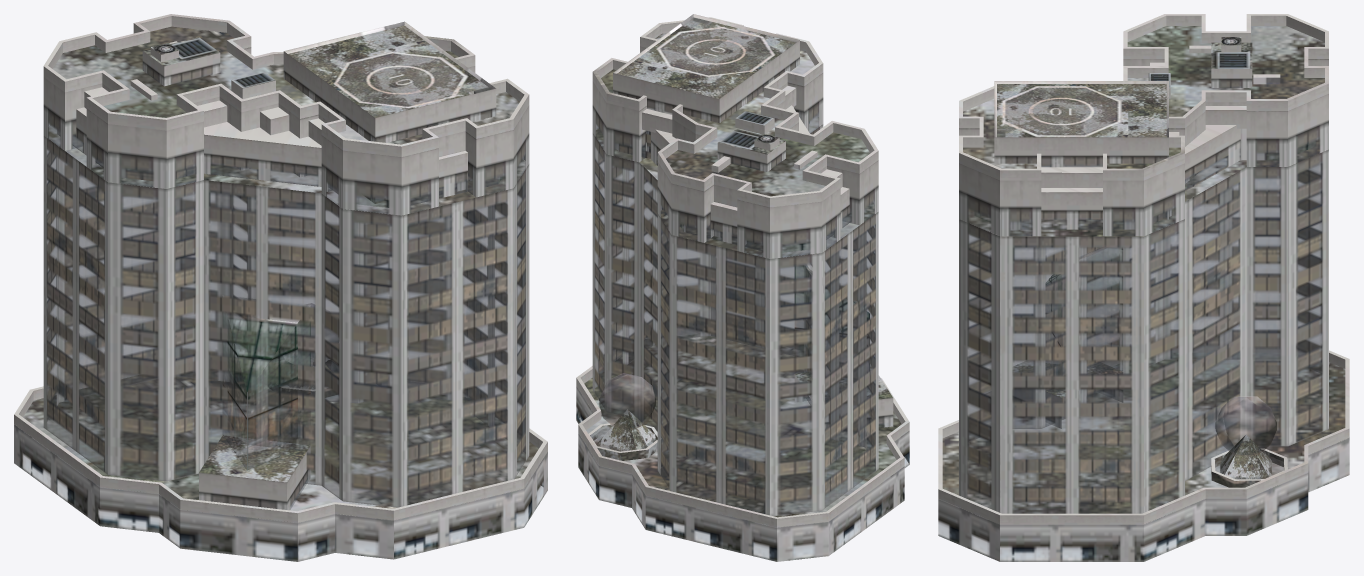
The model's file is Civilian - Civilian Building - Wrld Mnmt - CBWrldMnmt.glb.
3 renders of one model, left to right at view 1: azimuth 30°, elevation 25°; view 2: azimuth 150°, elevation 25°; view 3: azimuth 270°, elevation 25°, orthographic. The views are drawn at different scales.
Parts seen in each view (by area): view 1: CBWRLDMNMT; view 2: CBWRLDMNMT; view 3: CBWRLDMNMT.
Boxes of the visible parts, <box> form: CBWRLDMNMT: <box>14,14,547,561</box>; CBWRLDMNMT: <box>576,14,909,561</box>; CBWRLDMNMT: <box>938,14,1349,561</box>.
Size of the model in its own units: 200 by 214 by 200.
Materials: 1 (1 with a texture image).
